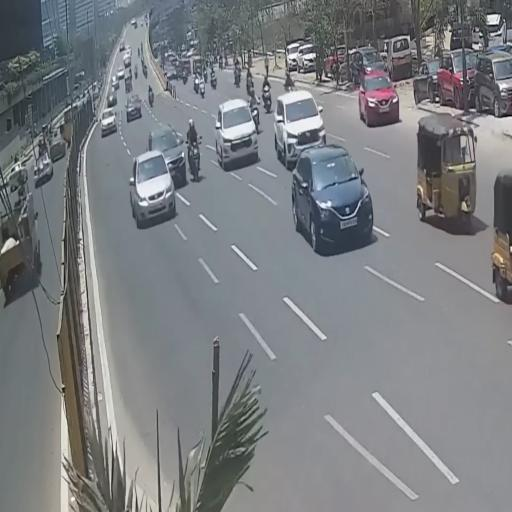小汽车: (291, 142, 373, 252), (414, 112, 479, 226), (272, 92, 328, 162), (131, 154, 175, 222), (490, 175, 512, 299), (217, 102, 257, 166), (148, 129, 188, 189), (360, 72, 400, 126)
自行车: (183, 120, 204, 184)
